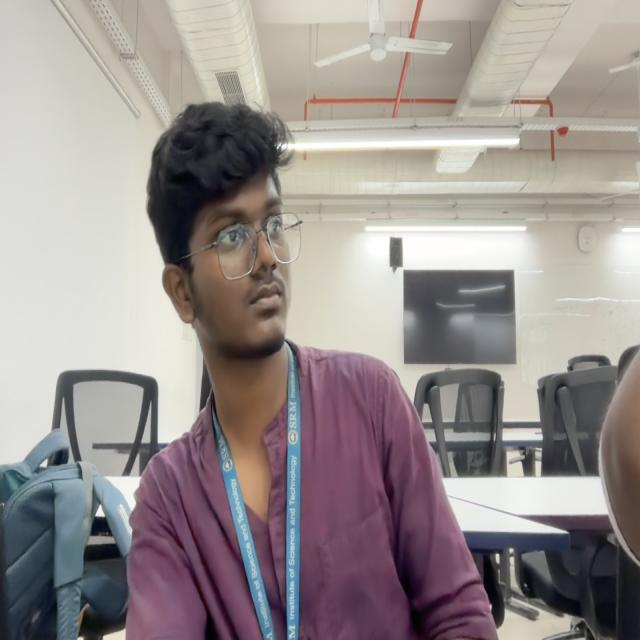ravindra: (146, 104, 304, 360)
